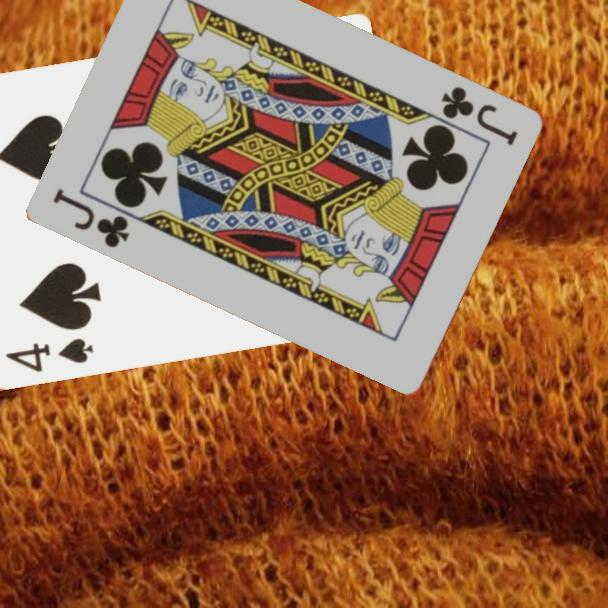c11: (438, 82, 522, 149), (50, 184, 133, 251)
s04: (2, 335, 96, 376)
